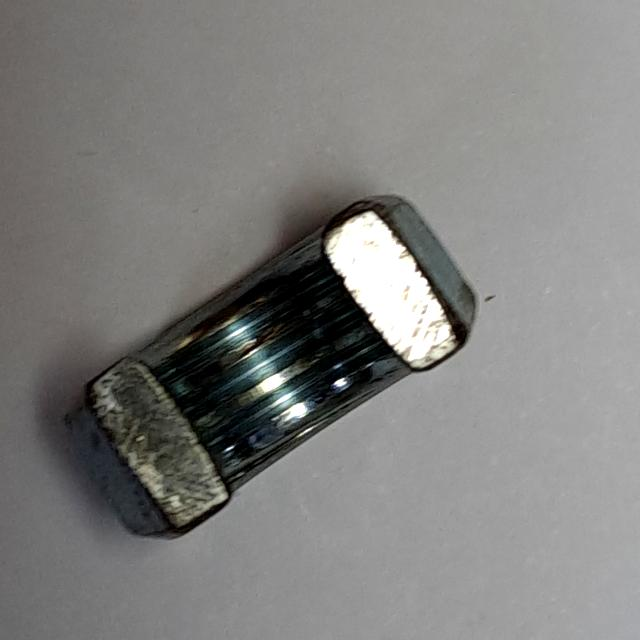Side-Fracture: (49, 175, 485, 551)
